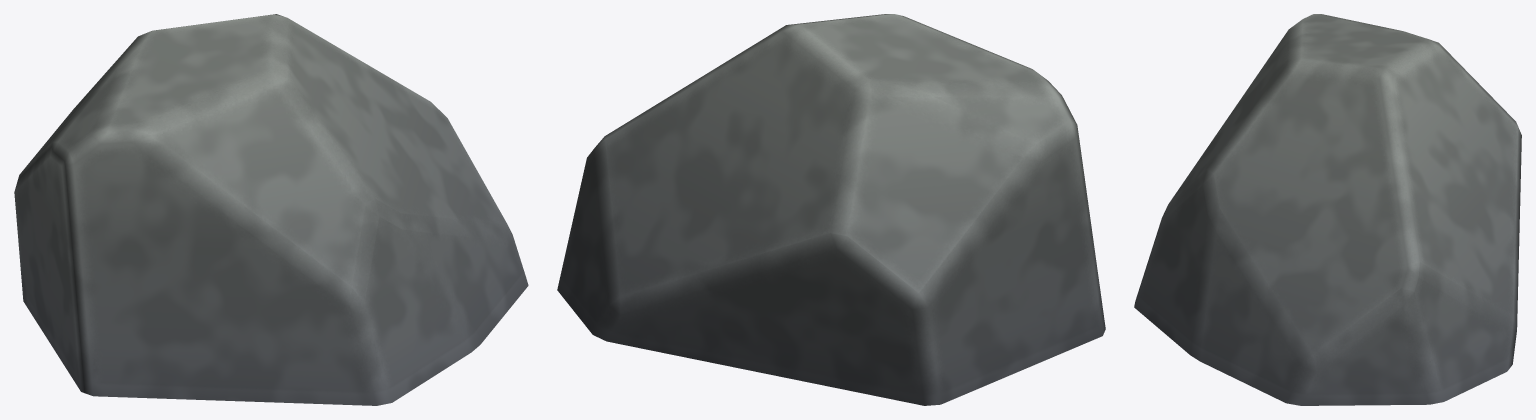
File: boulder_3.glb
3 renders of one model, left to right at view 1: azimuth 30°, elevation 25°; view 2: azimuth 150°, elevation 25°; view 3: azimuth 270°, elevation 25°, orthographic. The views are drawn at different scales.
Parts seen in each view (by area): view 1: boulder_3; view 2: boulder_3; view 3: boulder_3.
Part boxes in pixels (x1=…): boulder_3: x1=14, y1=14, x2=528, y2=405; boulder_3: x1=557, y1=14, x2=1105, y2=405; boulder_3: x1=1134, y1=14, x2=1521, y2=405.
Bounding box in the file's own units: 3.2 × 1.9 × 2.7.
Materials: 1 (1 with a texture image).
